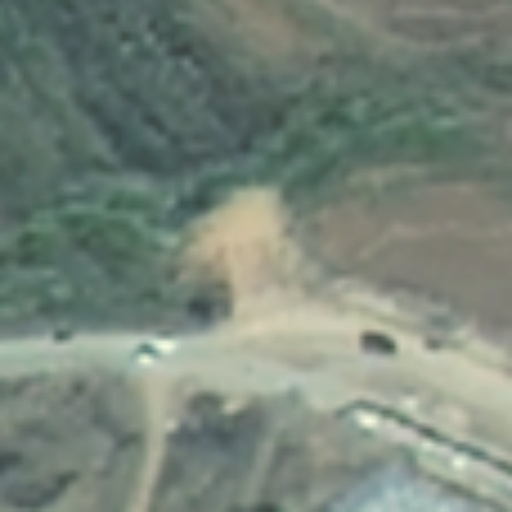landslide: (185, 186, 305, 313)
